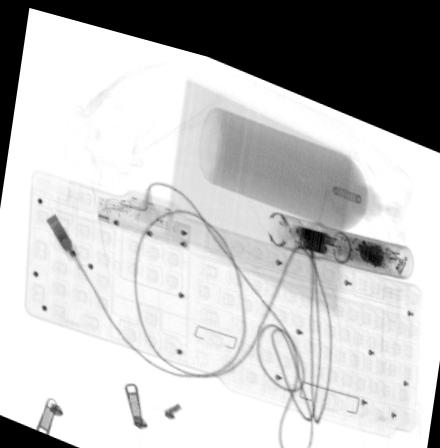Baton: (264, 196, 415, 259)
